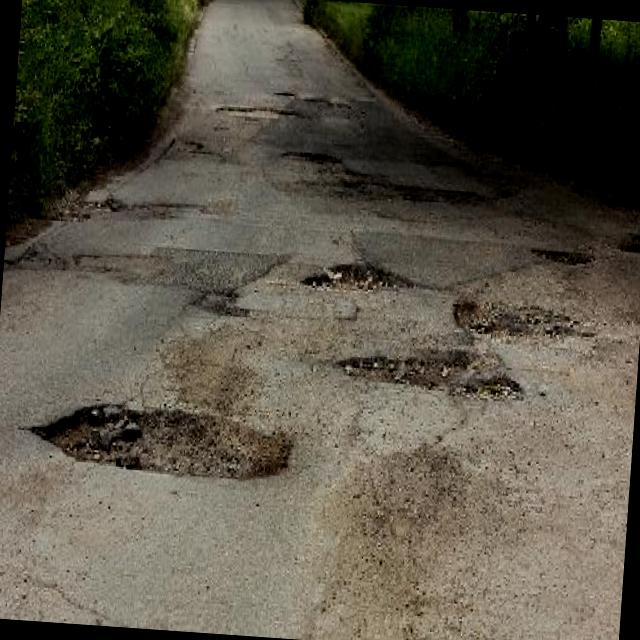Lubang: (32, 407, 291, 474), (337, 349, 522, 398), (342, 167, 500, 209), (454, 296, 593, 333), (303, 262, 414, 290), (195, 289, 249, 313), (532, 248, 594, 263), (215, 107, 298, 118), (282, 154, 342, 162), (621, 233, 640, 252)
